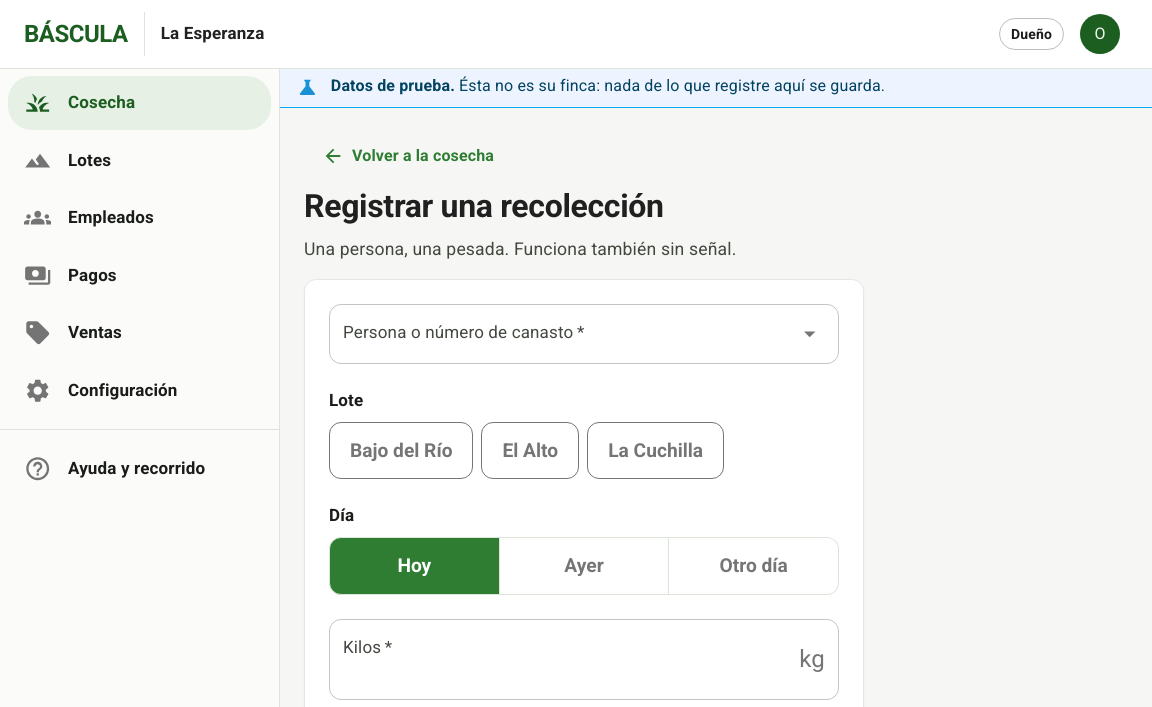
Test: the weighing form › shows the server's refusal and keeps what was typed
Click the dropdown labelled "Persona o número de canasto *". click: (569, 334)
box: [338,313,800,355]
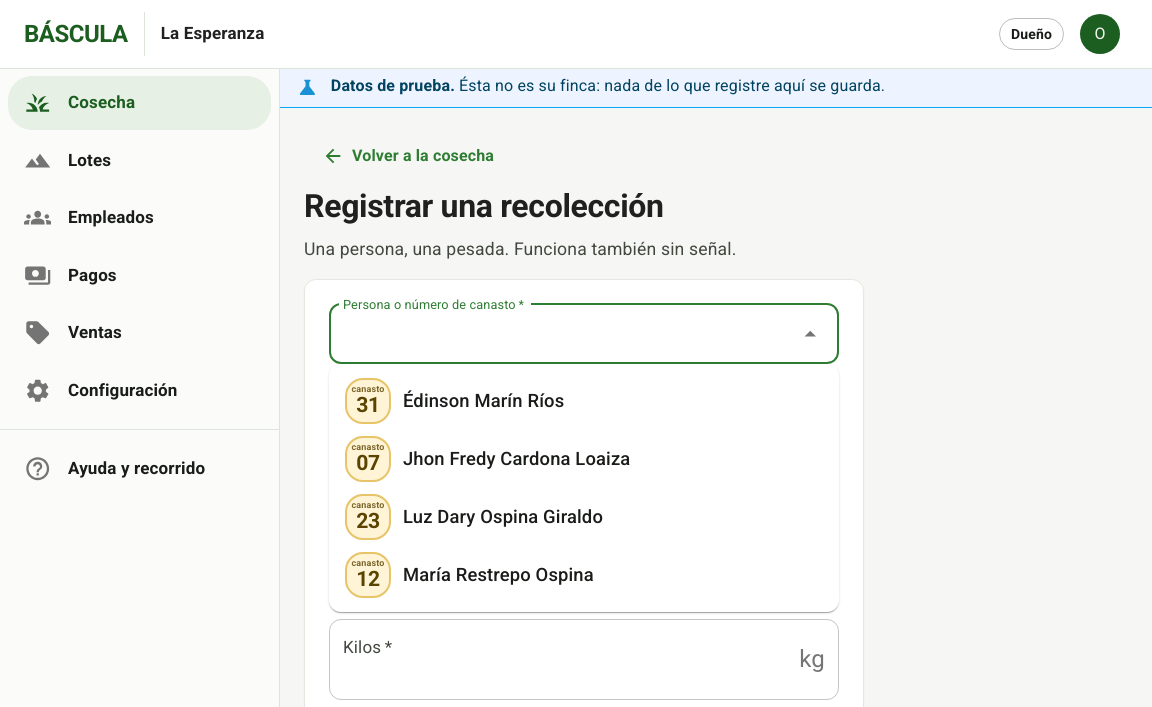
Click the option "canasto 12 María Restrepo Ospina". click: (469, 575)
box: [345,552,594,598]
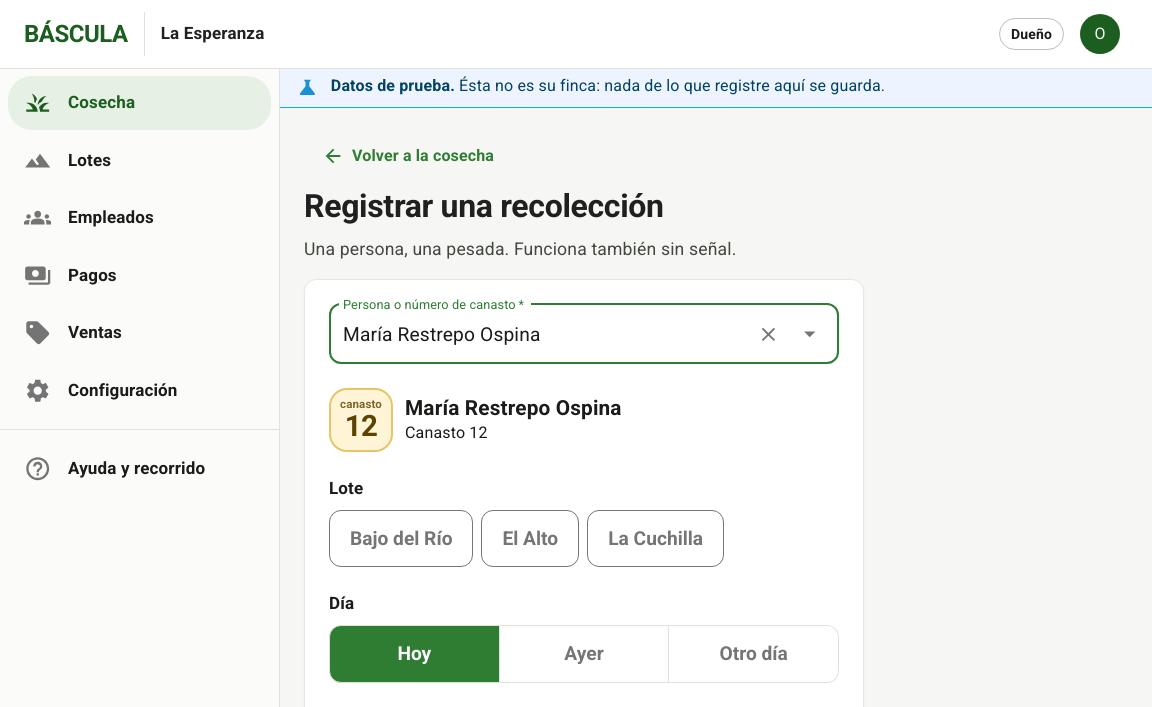
Click the button "El Alto". click: (530, 539)
box: [482,510,579,568]
(page scrolled)
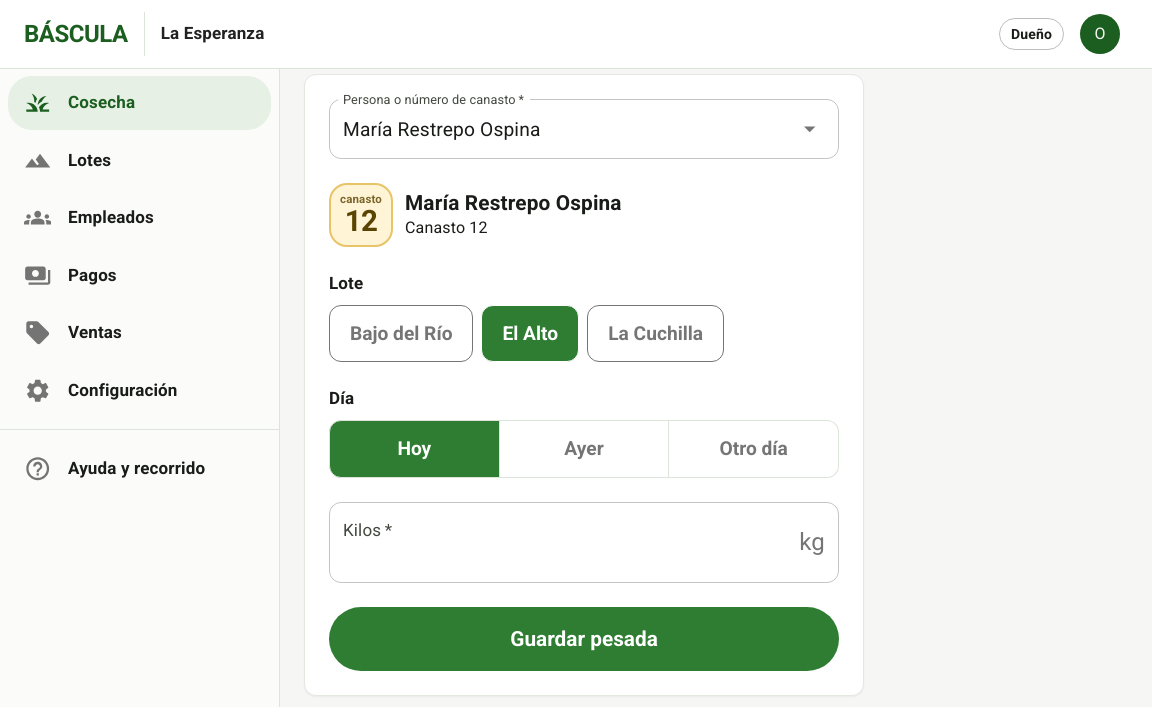
Type "20" into the field labelled "Kilos". click: (560, 542)
box: [329,502,791,583]
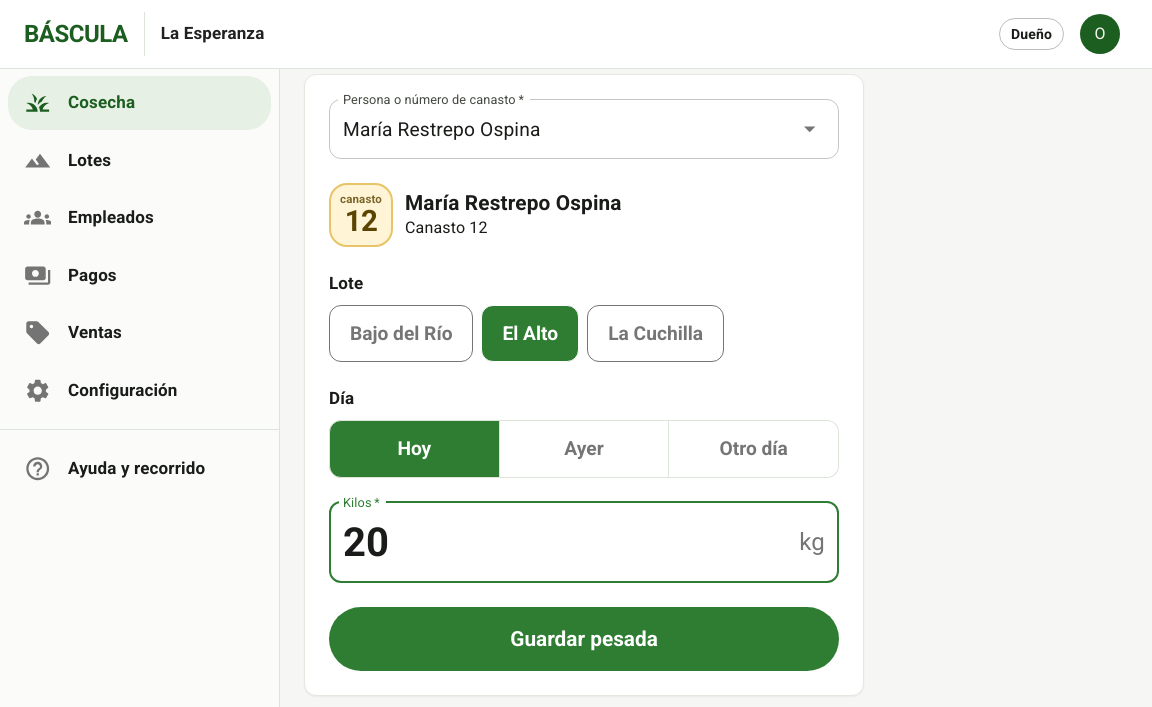
Click the button "Guardar pesada". click: (584, 639)
box: [329,607,839,671]
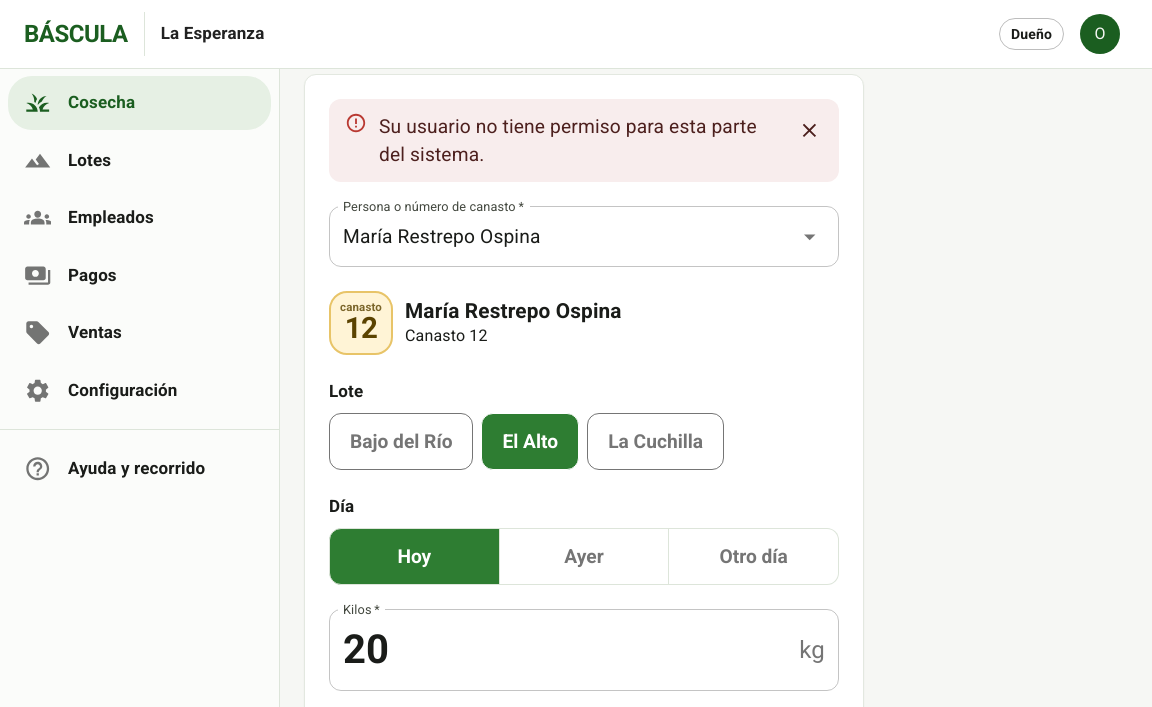
Now the text "Su usuario no tiene permiso para esta parte del sistema." is shown, box [379,105,771,176]
